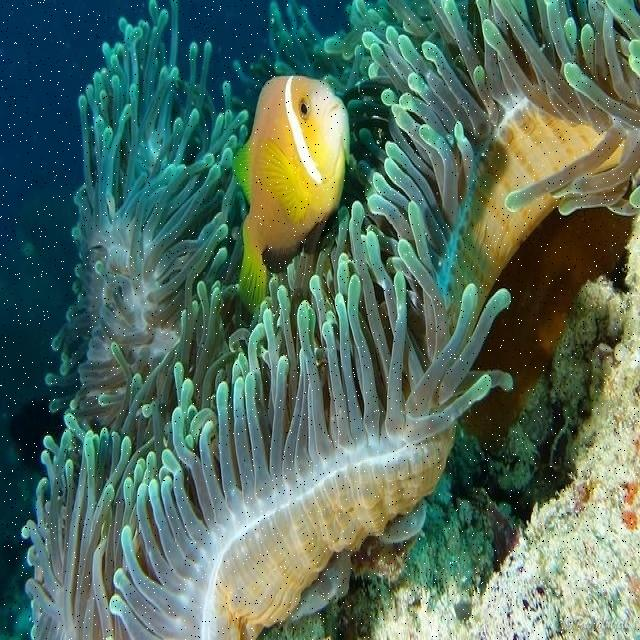fish: (229, 74, 351, 308)
reefs: (21, 0, 639, 639)
sea-floor: (258, 215, 639, 639)
